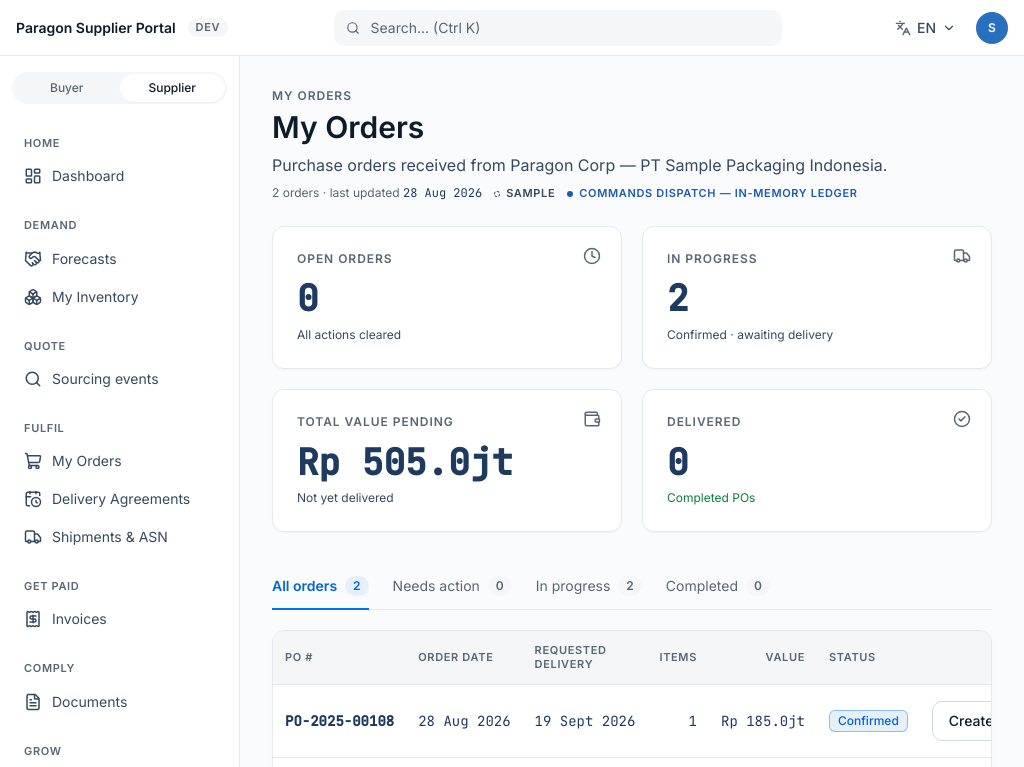
Scenario: OPS-3 · the supplier confirms — the date, the note and the quantity are sent and shown back › ⚠️ a later visit reads the same three back — the summary is not the form’s memory
What coordinates should you click on to do the following:
click the text "PO-2025-00108"
I would click on:
 (340, 721)
Its box is [285,712,394,730].
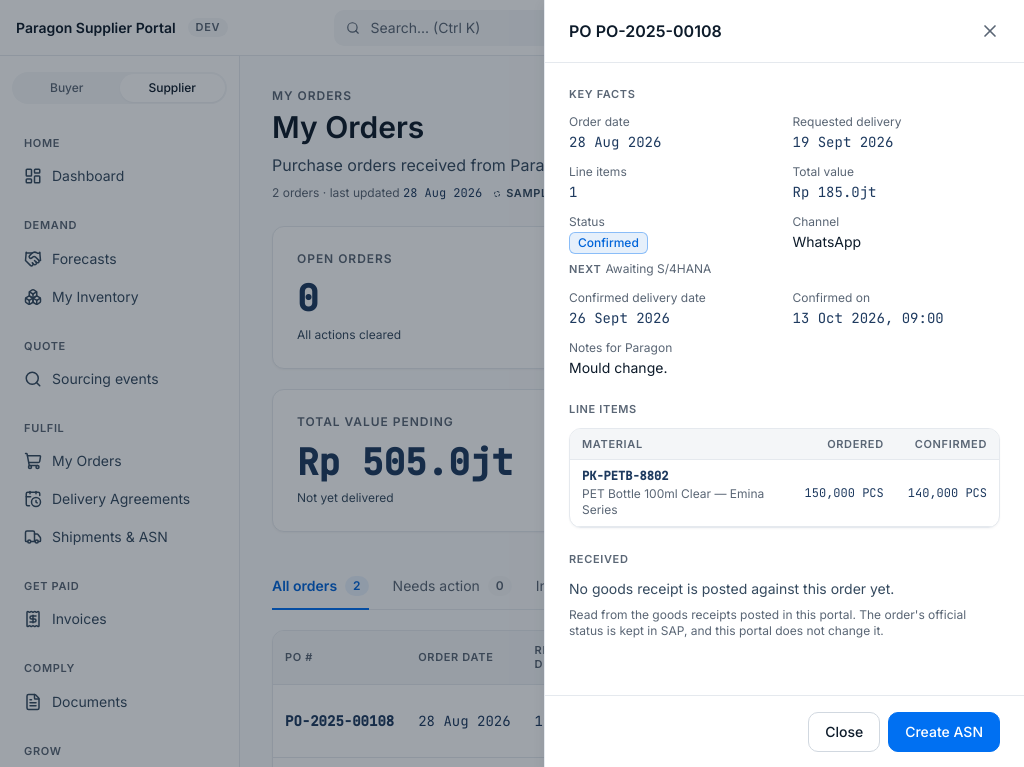
Expected: the text with test id "po-confirmation-note" reads "Mould change.", [569,359,667,376]
Expected: the element with test id "po-line-confirmed-0" reads "140,000 PCS", [908,485,987,501]
